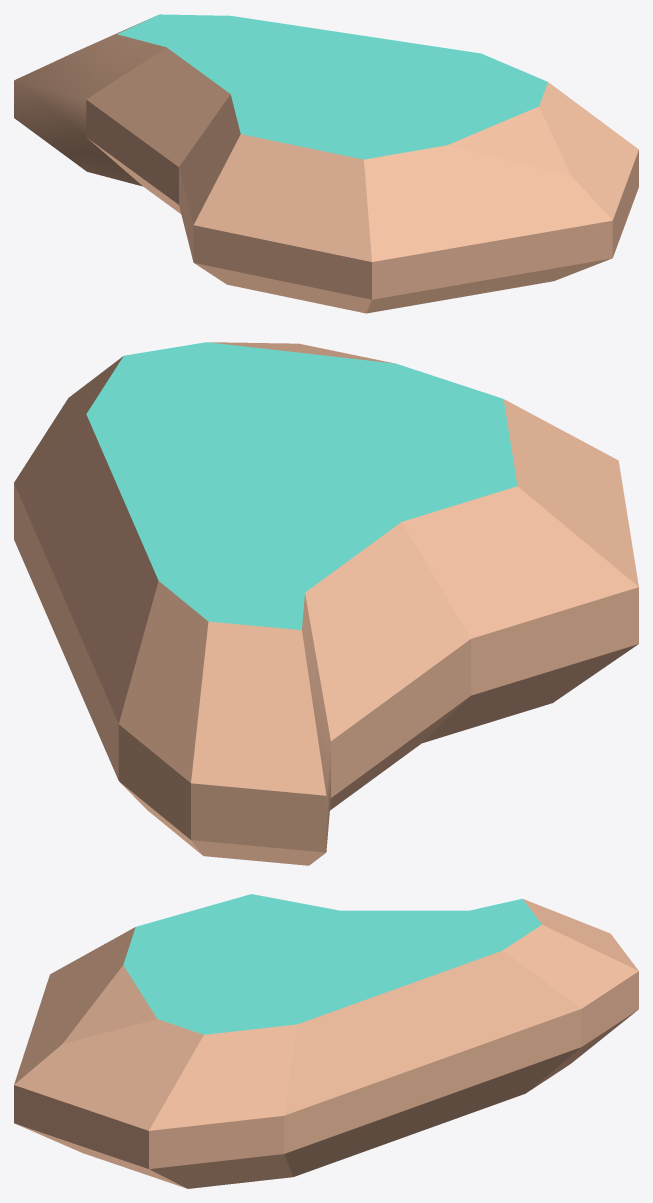
The model's file is rock_largeA.glb.
The picture shows the model from 3 angles, top to bottom: view 1: azimuth 30°, elevation 25°; view 2: azimuth 150°, elevation 25°; view 3: azimuth 270°, elevation 25°; orthographic projection. The views are drawn at different scales.
Parts seen in each view (by area): view 1: rock_largeA; view 2: rock_largeA; view 3: rock_largeA.
Boxes of the visible parts, x1,y1,x2,y2 form: rock_largeA: (14, 14, 638, 313); rock_largeA: (14, 342, 638, 865); rock_largeA: (14, 894, 638, 1188).
Size of the model in its own units: 7.85 by 2.6 by 10.15.
